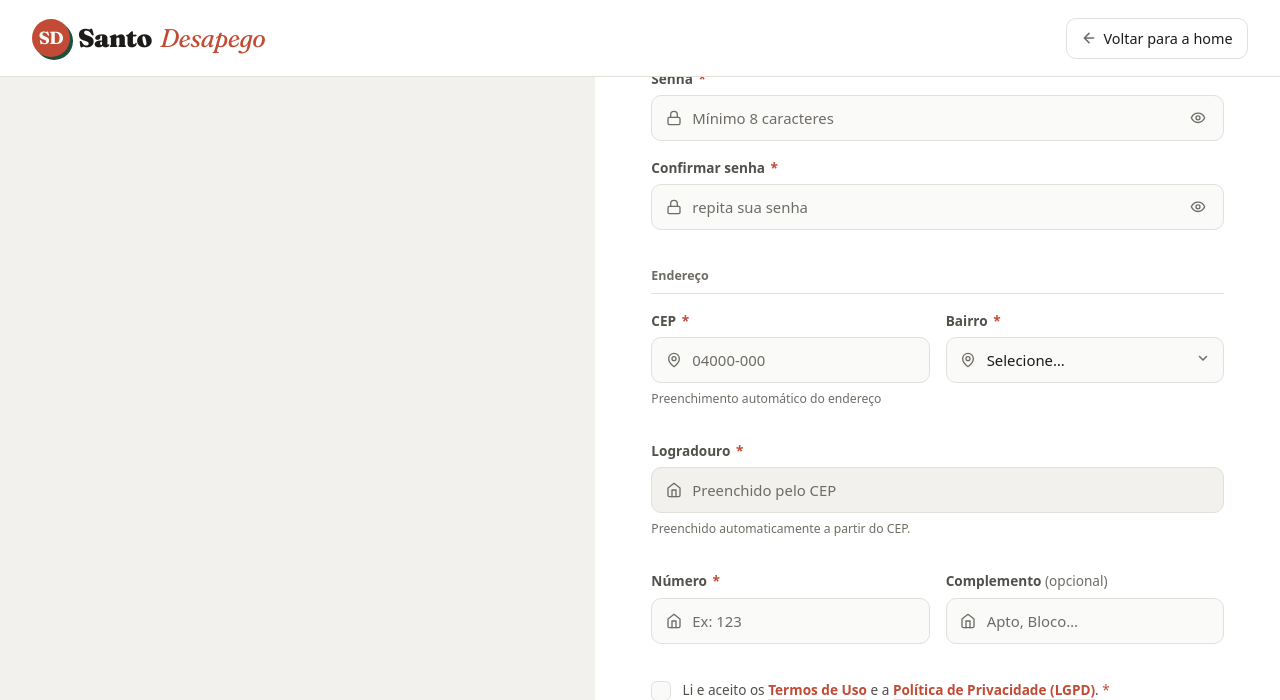
it: RF01 - Gestão de Perfil Geográfico › CEP que não existe mostra o erro
(page scrolled)
Type "99999999" into the field with placeholder "04000-000". click: (790, 360)
box: [651,337,930,383]
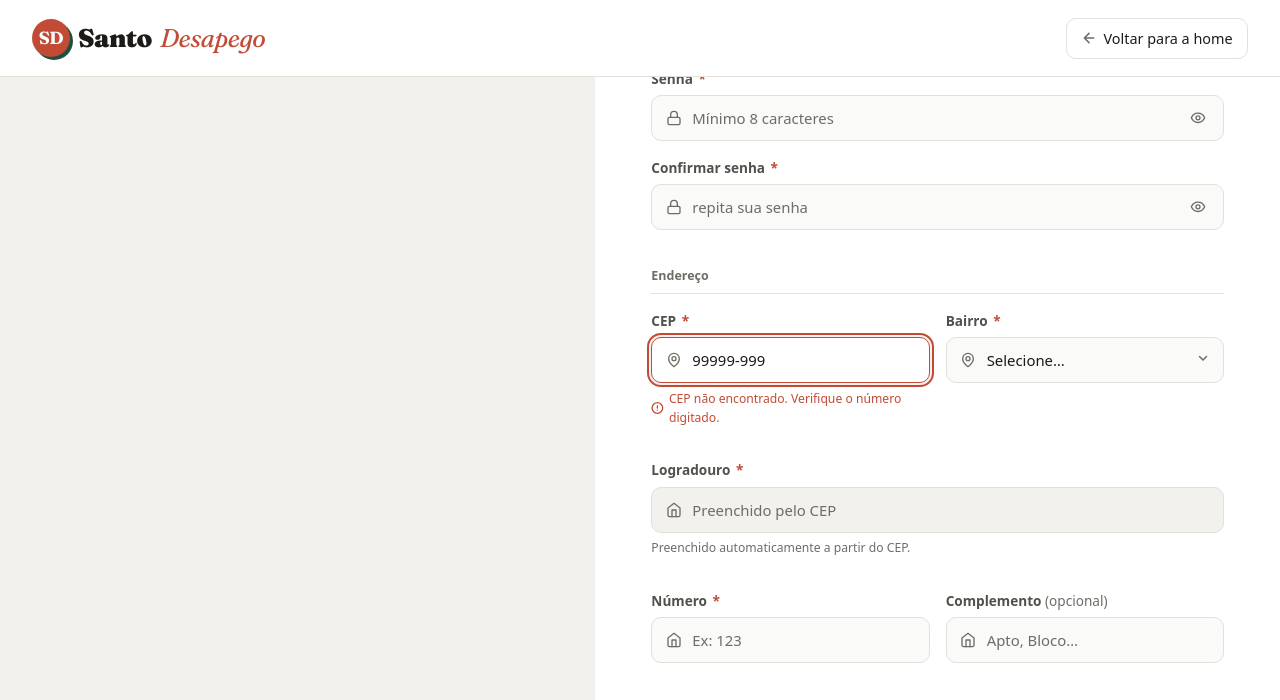
Now the text "CEP não encontrado. Verifique o número digitado." is shown, box [651,389,930,428]
